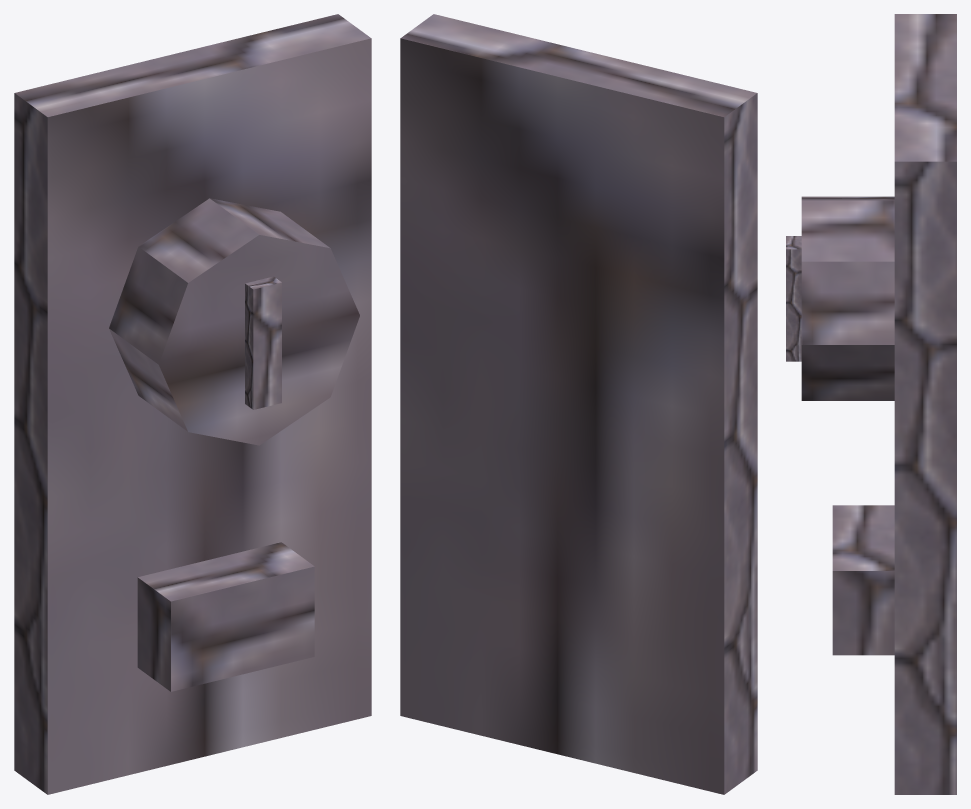
File: Door_Lock.fbx
The picture shows the model from 3 angles, left to right: view 1: azimuth 30°, elevation 25°; view 2: azimuth 150°, elevation 25°; view 3: azimuth 270°, elevation 25°; orthographic projection. The views are drawn at different scales.
Visible parts, largest first — view 1: Door_Lock; view 2: Door_Lock; view 3: Door_Lock.
Boxes of the visible parts, x1=… form: Door_Lock: x1=14, y1=14, x2=371, y2=794; Door_Lock: x1=400, y1=14, x2=757, y2=794; Door_Lock: x1=786, y1=14, x2=956, y2=794.
Size of the model in its own units: 0.045 by 0.09 by 0.022.
